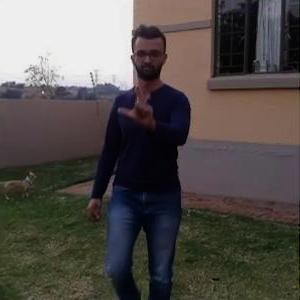land_hand: (115, 72, 162, 128)
